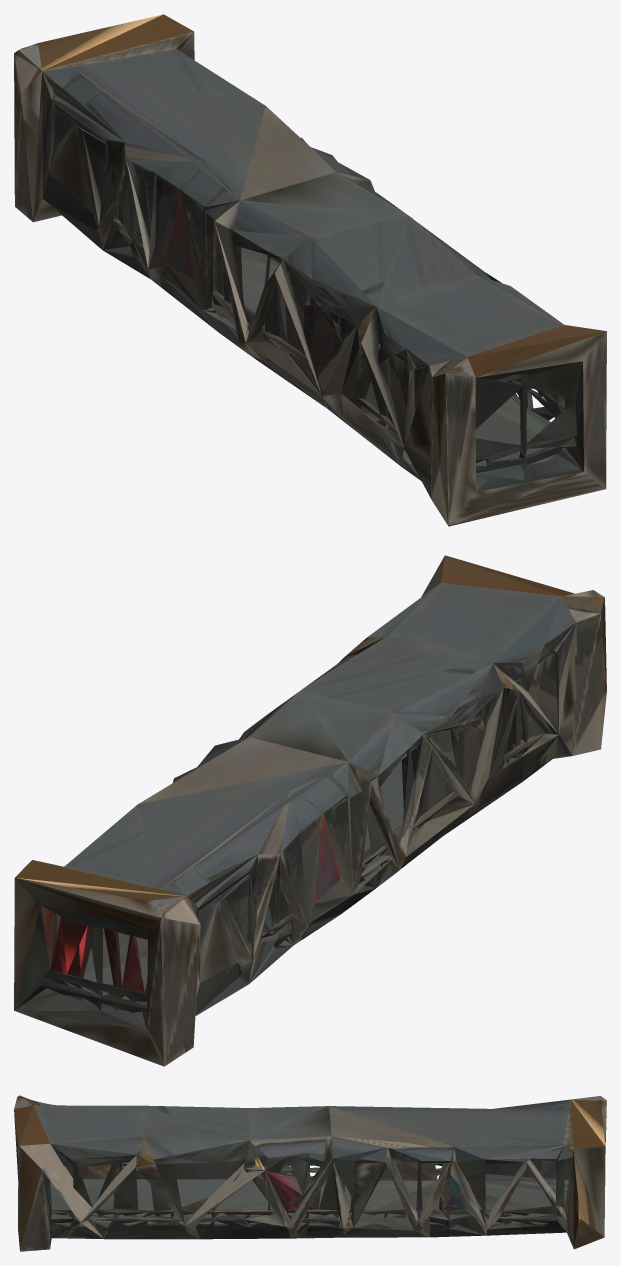
3 views of the same model, one above another, from view 1: azimuth 30°, elevation 25°; view 2: azimuth 150°, elevation 25°; view 3: azimuth 270°, elevation 25° (orthographic). The views are drawn at different scales.
Parts seen in each view (by area): view 1: s06; view 2: s06; view 3: s06.
Boxes of the visible parts, x1,y1,x2,y2 form: s06: (14, 14, 606, 526); s06: (14, 555, 606, 1066); s06: (14, 1095, 606, 1251).
Bounding box in the file's own units: 6.48 × 5.51 × 27.58.
Materials: 1 (1 with a texture image).
